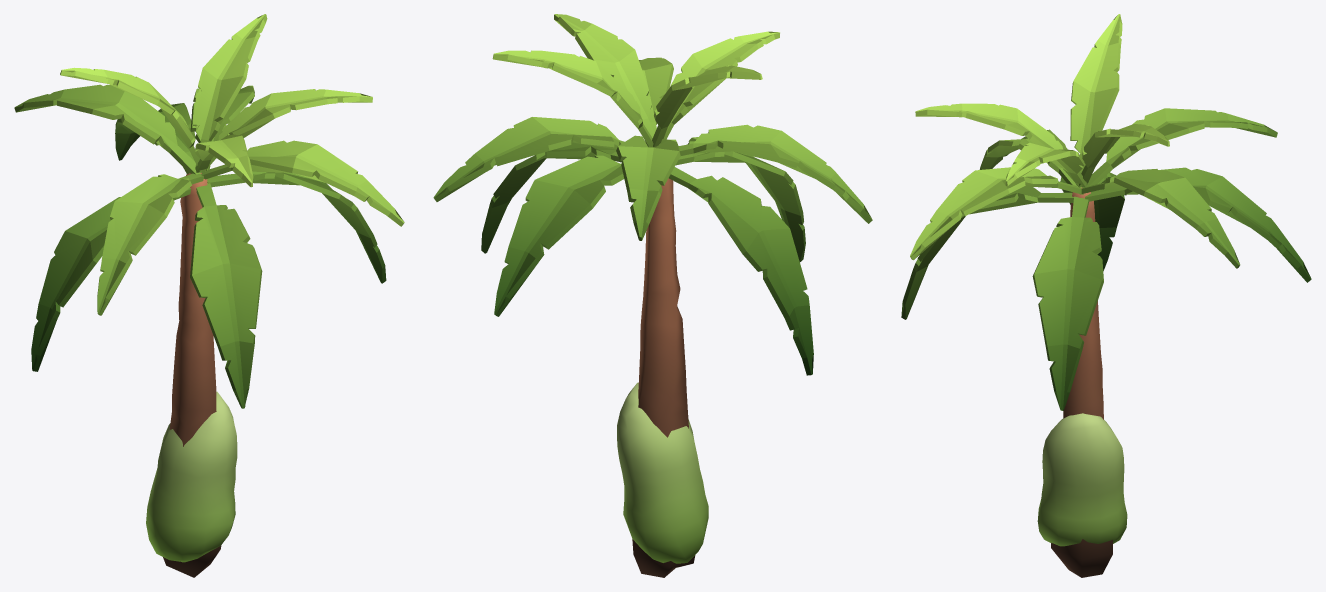
File: PalmTrees_4.fbx
The picture shows the model from 3 angles, left to right: view 1: azimuth 30°, elevation 25°; view 2: azimuth 150°, elevation 25°; view 3: azimuth 270°, elevation 25°; orthographic projection. The views are drawn at different scales.
Visible parts, largest first — view 1: PalmTrees_3; view 2: PalmTrees_3; view 3: PalmTrees_3.
Part boxes in pixels (x1,y1,x2,y2): PalmTrees_3: (14,14,404,577); PalmTrees_3: (433,14,872,577); PalmTrees_3: (901,14,1311,577).
Bounding box in the file's own units: 584 × 860 × 633.
